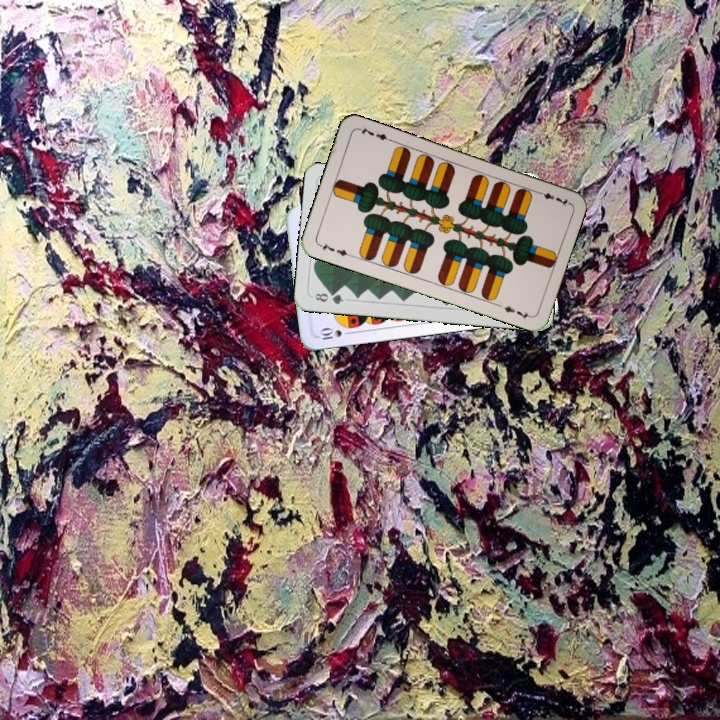E7: (315, 238, 354, 260), (532, 187, 571, 209)
G8: (309, 288, 346, 307)
S10: (316, 324, 355, 342)
